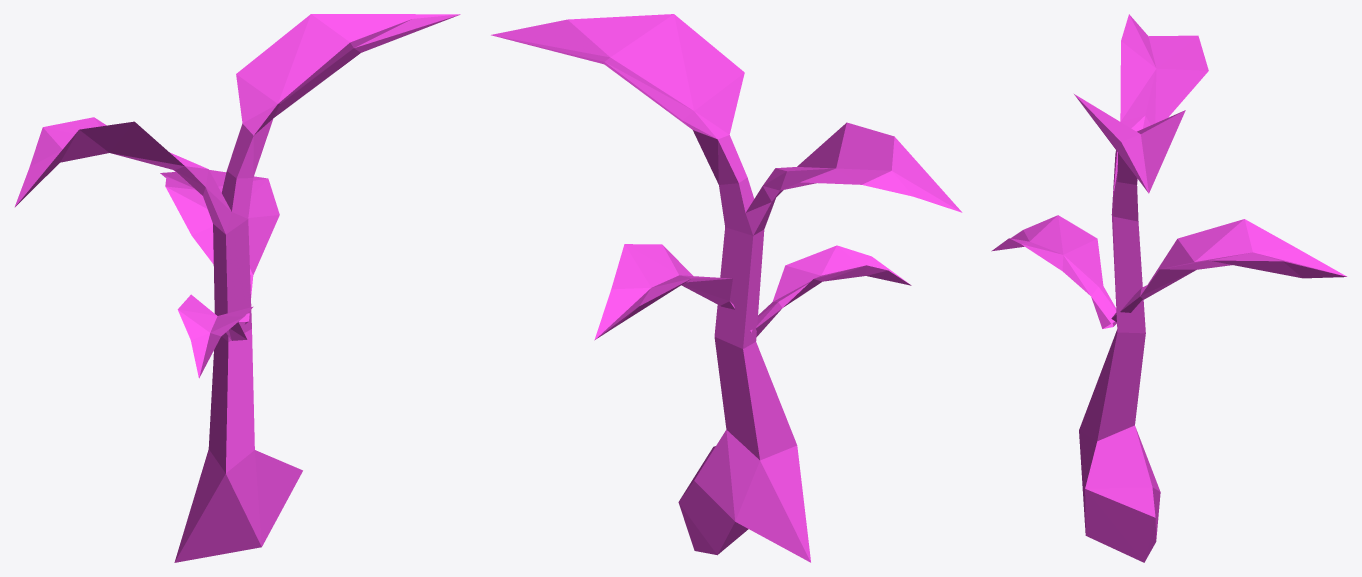
Rendered from SM_BellPepper_Sprout_A.fbx.
The picture shows the model from 3 angles, left to right: view 1: azimuth 30°, elevation 25°; view 2: azimuth 150°, elevation 25°; view 3: azimuth 270°, elevation 25°; orthographic projection.
Visible parts, largest first — view 1: SM_Pepper_Sprout_A; view 2: SM_Pepper_Sprout_A; view 3: SM_Pepper_Sprout_A.
Boxes of the visible parts, x1,y1,x2,y2 form: SM_Pepper_Sprout_A: [14, 14, 460, 562]; SM_Pepper_Sprout_A: [491, 14, 962, 562]; SM_Pepper_Sprout_A: [991, 14, 1347, 562].
Size of the model in its own units: 0.2664 by 0.2745 by 0.1787.
